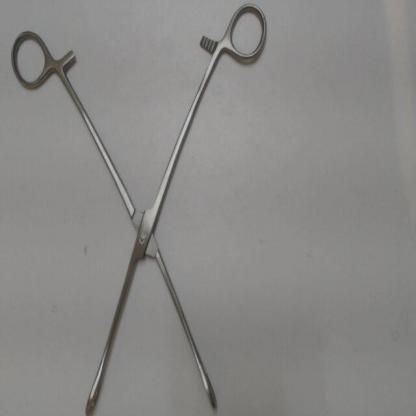Sponge Forceps: (8, 2, 272, 414)
